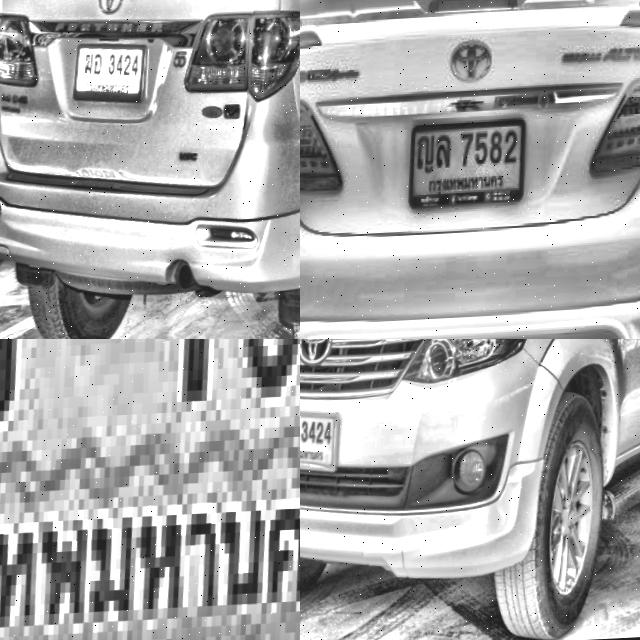license-plate: (0, 339, 300, 640), (405, 110, 537, 216), (76, 34, 156, 104), (300, 404, 351, 475)
